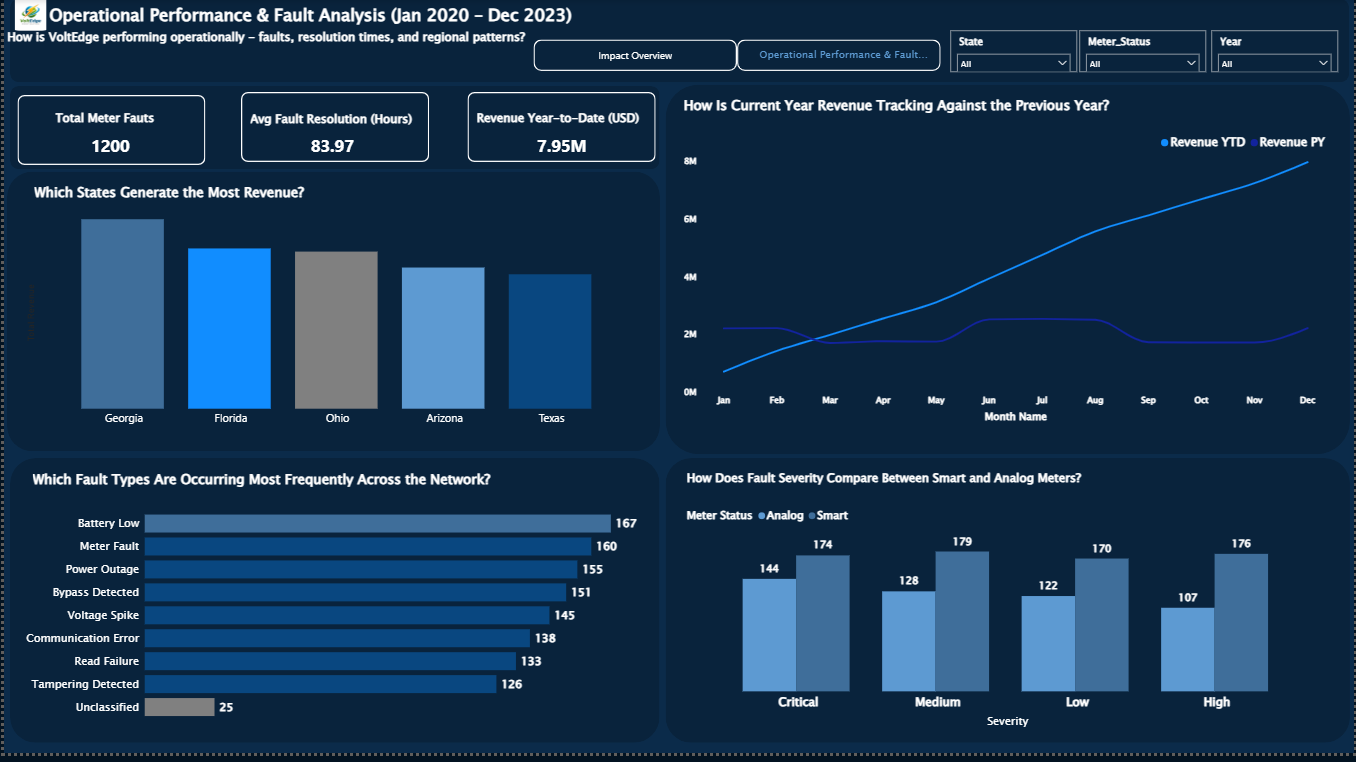

What the dashboard file says about the page in this screenshot:
{"tool":"powerbi","page":{"name":"Operational Performance & Fault Analysis","canvas":[2150,1200],"ordinal":1},"visuals":[{"type":"shape","box":[927.9,137.9,965,583.2],"z":0},{"type":"shape","box":[0,0,2150,1200.9],"z":1000},{"type":"shape","box":[10.6,0,2131.4,132.6],"z":2000},{"type":"shape","box":[10.6,137.9,1033.9,132.6],"z":3000},{"type":"shape","box":[21.2,153.8,299,111.3],"z":4000},{"type":"shape","box":[5.3,275.7,1039.2,445.4],"z":5000},{"type":"shape","box":[10.6,731.7,1033.9,453.3],"z":6000},{"type":"shape","box":[1052.5,731.7,1089.6,453.3],"z":7000},{"type":"card","fields":{"Values":["Billing.Total Meter Faults"]},"box":[79.5,212.1,180.3,42.4],"z":8000},{"type":"card","fields":{"Values":["Billing.Revenue YTD"]},"box":[798,212.1,180.3,42.4],"z":9000},{"type":"card","fields":{"Values":["Billing.Avg Resolution Time (Hrs)"]},"box":[432.1,212.1,180.3,42.4],"z":10000},{"type":"clusteredBarChart","fields":{"Category":["Meter Events.Event_Type"],"Y":["Billing.Total Meter Faults"]},"box":[29.2,792.7,983.5,368.5],"z":12000},{"type":"clusteredColumnChart","fields":{"Category":["Meter Events.Severity"],"Y":["Billing.Total Meter Faults"],"Series":["Customers.Meter_Type"]},"box":[1081.6,800.6,1031.2,368.5],"z":13000},{"type":"textbox","box":[0,0,954.4,87.5],"z":14000},{"type":"textbox","box":[76.9,169.7,198.8,50.4],"z":15000},{"type":"textbox","box":[387,172.3,291.6,50.4],"z":16000},{"type":"textbox","box":[747.6,169.7,281,50.4],"z":17000},{"type":"textbox","box":[39.8,742.3,888.1,58.3],"z":19000},{"type":"textbox","box":[1081.6,742.3,654.8,58.3],"z":20000},{"type":"slicer","fields":{"Values":["Date Table.Year"]},"box":[1922,50.4,201.5,66.3],"z":21000},{"type":"slicer","fields":{"Values":["MeterStatus.Meter_Status"]},"box":[1712.6,50.4,201.5,66.3],"z":22000},{"type":"slicer","fields":{"Values":["Customers.State"]},"box":[1505.8,50.4,201.5,66.3],"z":23000},{"type":"clusteredColumnChart","fields":{"Category":["Customers.State"],"Y":["Billing.Total Revenue"]},"box":[29.2,331.4,983.5,357.9],"z":24000},{"type":"textbox","box":[42.4,286.3,657.5,45.1],"z":26000},{"type":"image","box":[0,0,84.8,50.4],"z":27000},{"type":"shape","box":[1052.5,135.2,1089.6,588.5],"z":27500},{"type":"shape","box":[376.4,148.5,299.6,111.3],"z":28000},{"type":"shape","box":[737,148.5,299.6,111.3],"z":29000},{"type":"textbox","box":[1076.3,148.5,737,61],"z":30000},{"type":"lineChart","fields":{"Category":["Date Table.Month Name"],"Y":["Billing.Revenue YTD","Billing.Revenue PY"]},"box":[1076.3,204.1,1036.5,477.2],"z":30500},{"type":"pageNavigator","box":[843,63.6,649.5,50.4],"z":30501}]}

Visuals, with their boxes in screenshot pixels (x1, y1, x2, y2), scaled from the page's 2150x1200 canvas onto the 1356x762 screenshot:
shape: bbox=[585, 88, 1194, 458]
shape: bbox=[0, 0, 1355, 761]
shape: bbox=[7, 0, 1351, 84]
shape: bbox=[7, 88, 659, 172]
shape: bbox=[13, 98, 202, 168]
shape: bbox=[3, 175, 659, 458]
shape: bbox=[7, 465, 659, 752]
shape: bbox=[664, 465, 1351, 752]
card - Billing.Total Meter Faults: bbox=[50, 135, 164, 162]
card - Billing.Revenue YTD: bbox=[503, 135, 617, 162]
card - Billing.Avg Resolution Time (Hrs): bbox=[273, 135, 386, 162]
clusteredBarChart - Meter Events.Event_Type x Billing.Total Meter Faults: bbox=[18, 503, 639, 737]
clusteredColumnChart - Meter Events.Severity x Billing.Total Meter Faults: bbox=[682, 508, 1333, 742]
textbox: bbox=[0, 0, 602, 56]
textbox: bbox=[49, 108, 174, 140]
textbox: bbox=[244, 109, 428, 141]
textbox: bbox=[472, 108, 649, 140]
textbox: bbox=[25, 471, 585, 508]
textbox: bbox=[682, 471, 1095, 508]
slicer - Date Table.Year: bbox=[1212, 32, 1339, 74]
slicer - MeterStatus.Meter_Status: bbox=[1080, 32, 1207, 74]
slicer - Customers.State: bbox=[950, 32, 1077, 74]
clusteredColumnChart - Customers.State x Billing.Total Revenue: bbox=[18, 210, 639, 438]
textbox: bbox=[27, 182, 441, 210]
image: bbox=[0, 0, 53, 32]
shape: bbox=[664, 86, 1351, 460]
shape: bbox=[237, 94, 426, 165]
shape: bbox=[465, 94, 654, 165]
textbox: bbox=[679, 94, 1144, 133]
lineChart - Date Table.Month Name x Billing.Revenue YTD: bbox=[679, 130, 1333, 433]
pageNavigator: bbox=[532, 40, 941, 72]
